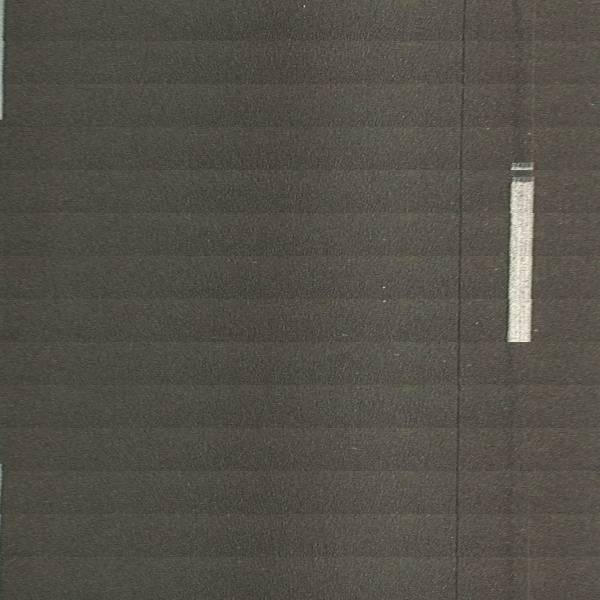road_damage: (453, 36, 467, 557)
